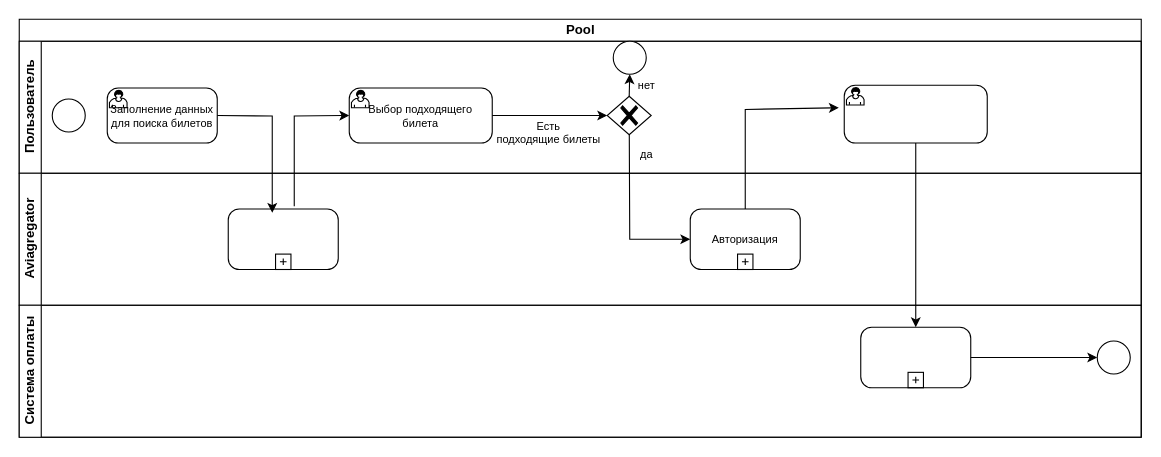
This 1161x457 diagram has some shape labels left out. The shapes that lost their labels are listed below. From the top down, each one's centre as x and y in pixels, then its label:
At point (915, 113): "Заполнение платежных реквизитов".
At point (282, 239): "Выполнение поиска билетов".
At point (915, 357): "Проведение оплаты".
